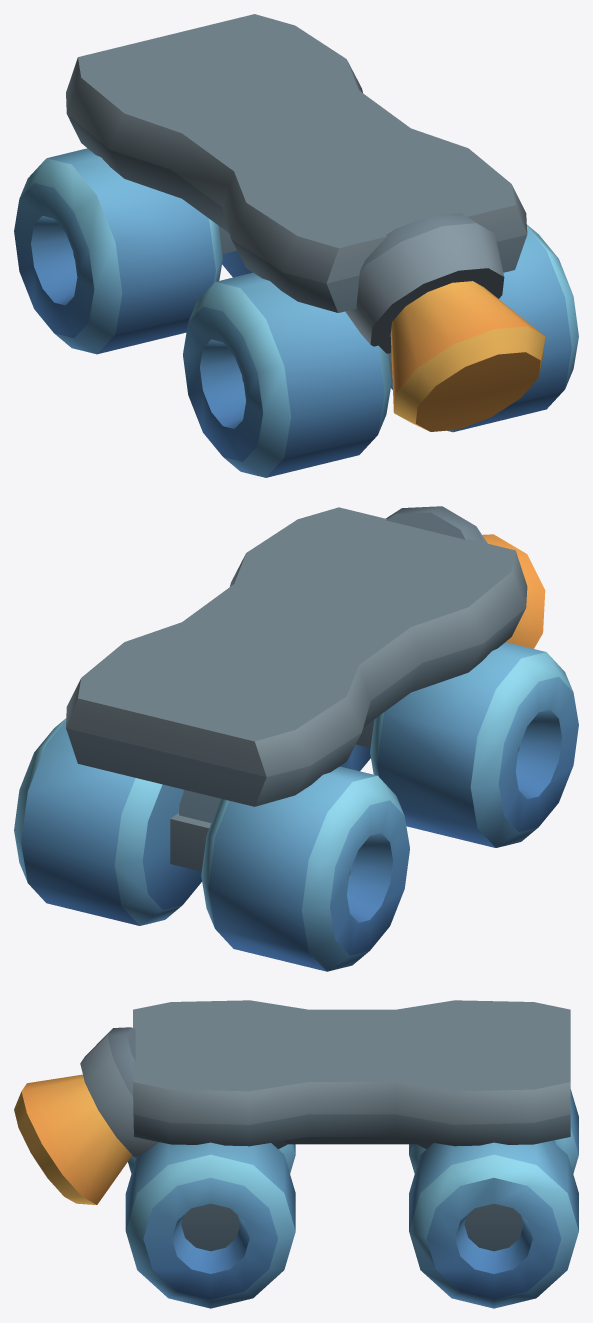
Rendered from rollerskate_a.glb.
3 views of the same model, one above another, from view 1: azimuth 30°, elevation 25°; view 2: azimuth 150°, elevation 25°; view 3: azimuth 270°, elevation 25° (orthographic). The views are drawn at different scales.
Visible parts, largest first — view 1: rollerskate_A; view 2: rollerskate_A; view 3: rollerskate_A.
Part boxes in pixels (x1,y1,x2,y2): rollerskate_A: [14, 14, 578, 477]; rollerskate_A: [14, 506, 578, 971]; rollerskate_A: [14, 1000, 578, 1308].
Bounding box in the file's own units: 0.27 × 0.2113 × 0.4987.
1 material, 1 textured.
